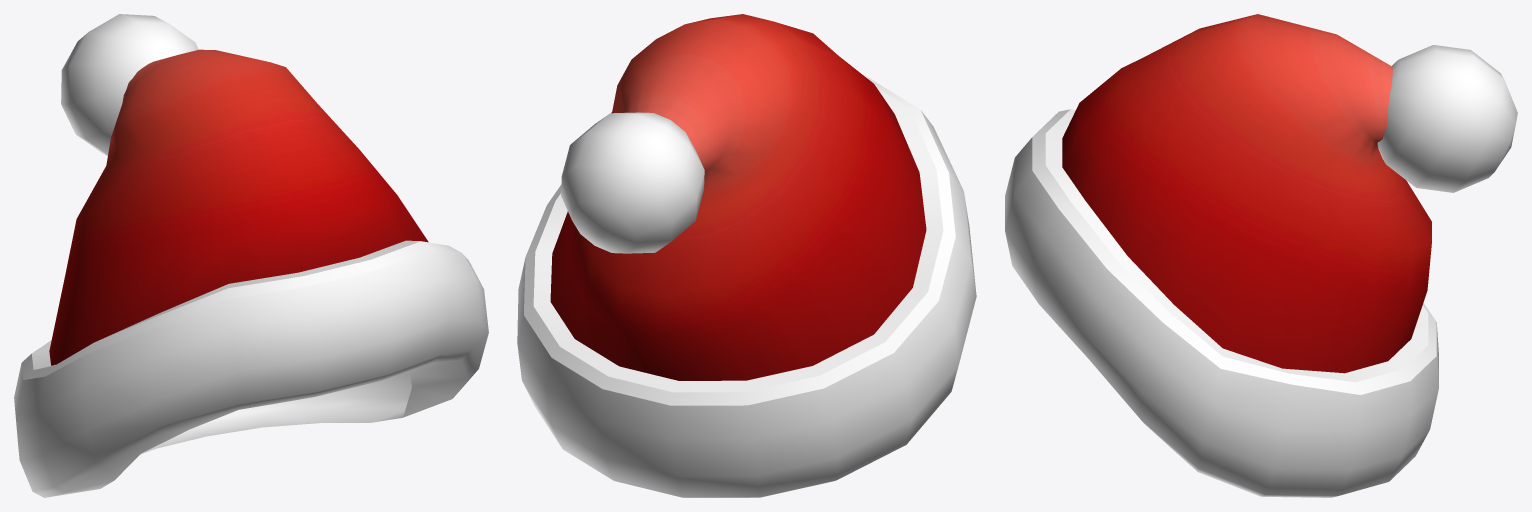
File: christmas_hat.glb
3 views of the same model, side by side, from view 1: azimuth 30°, elevation 25°; view 2: azimuth 150°, elevation 25°; view 3: azimuth 270°, elevation 25° (orthographic). The views are drawn at different scales.
Parts seen in each view (by area): view 1: Gorro_navidad; view 2: Gorro_navidad; view 3: Gorro_navidad.
Part boxes in pixels (x1,y1,x2,y2): Gorro_navidad: [14, 14, 488, 497]; Gorro_navidad: [517, 14, 976, 497]; Gorro_navidad: [1005, 14, 1517, 497].
Bounding box in the file's own units: 3.03 × 2.88 × 3.2.
Materials: 1 (1 with a texture image).
